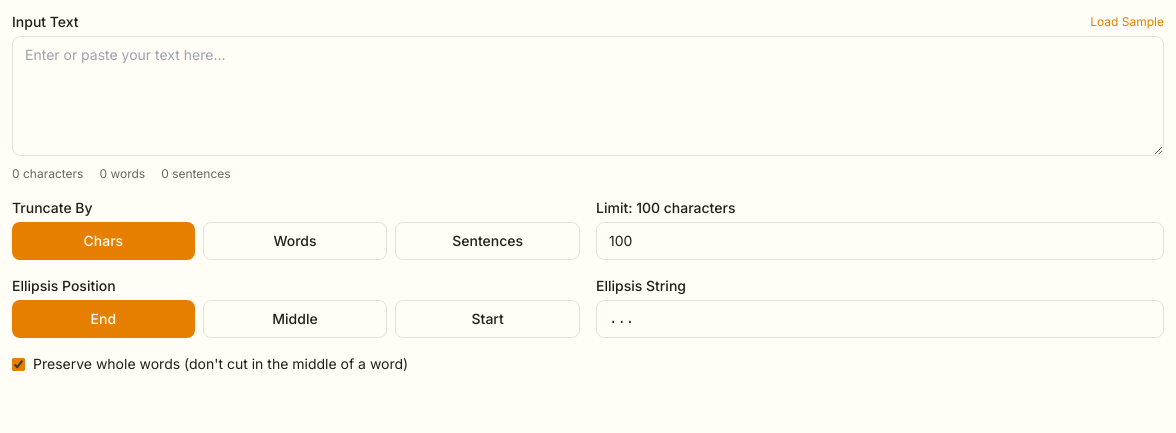
Test: TextTruncator › truncates by sentence count
Step 1. Click the button "Sentences" → coordinates (488, 241), box [395,222,580,260]
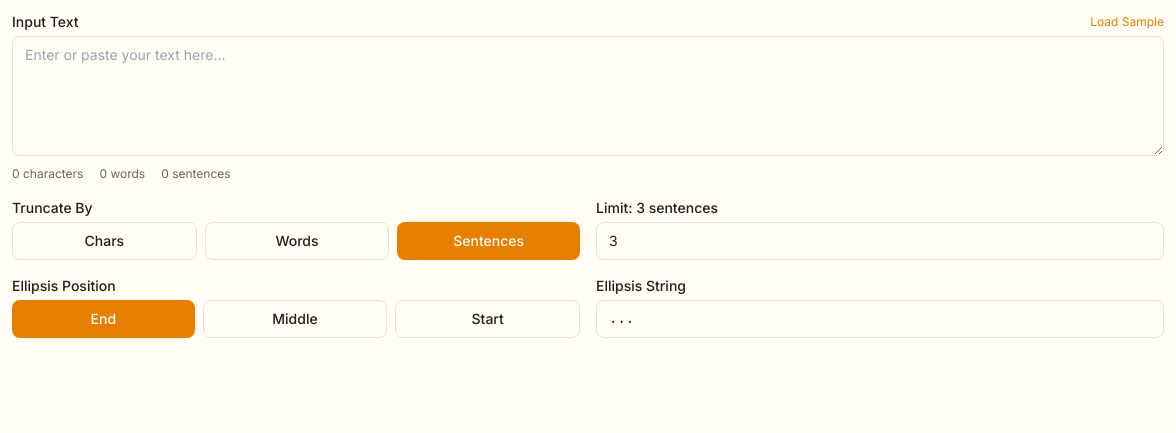
Step 2. Type "First sentence. Second sentence. Third sentence. Fourth sentence." into the text box named "Text input" → coordinates (588, 96), box [12,36,1164,156]
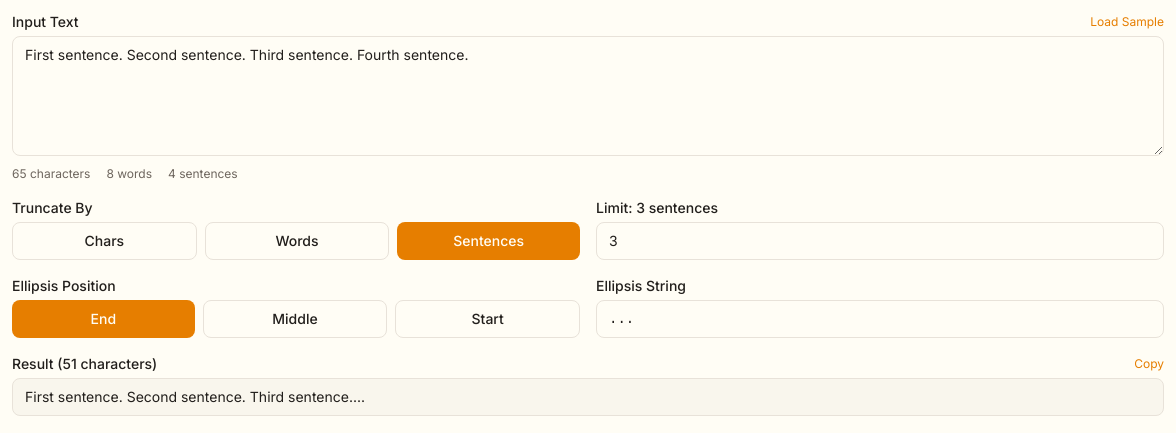
Step 3. Replace the text in the number field named "Truncation limit" with "2" → coordinates (880, 241), box [596,222,1164,260]
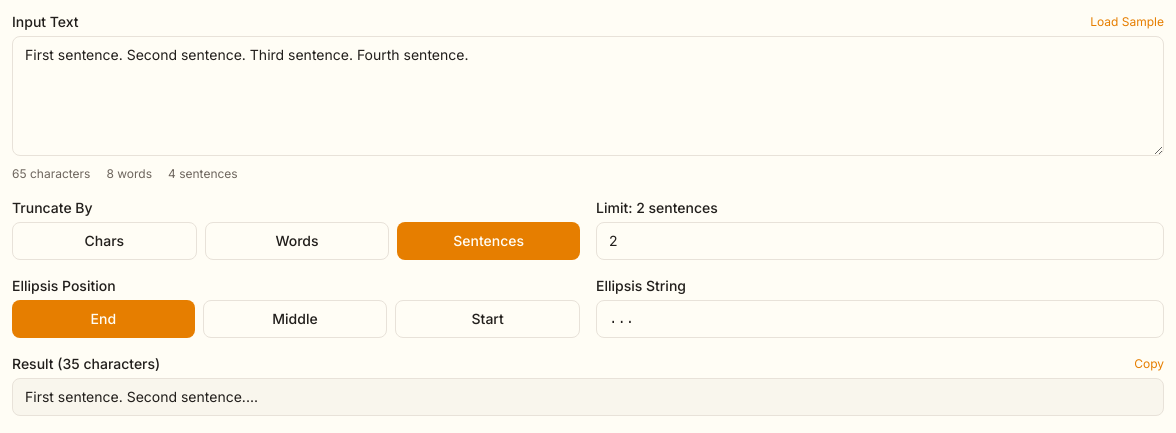
Expected: the text "First sentence. Second sentence...." is shown, [12,378,1164,416]
